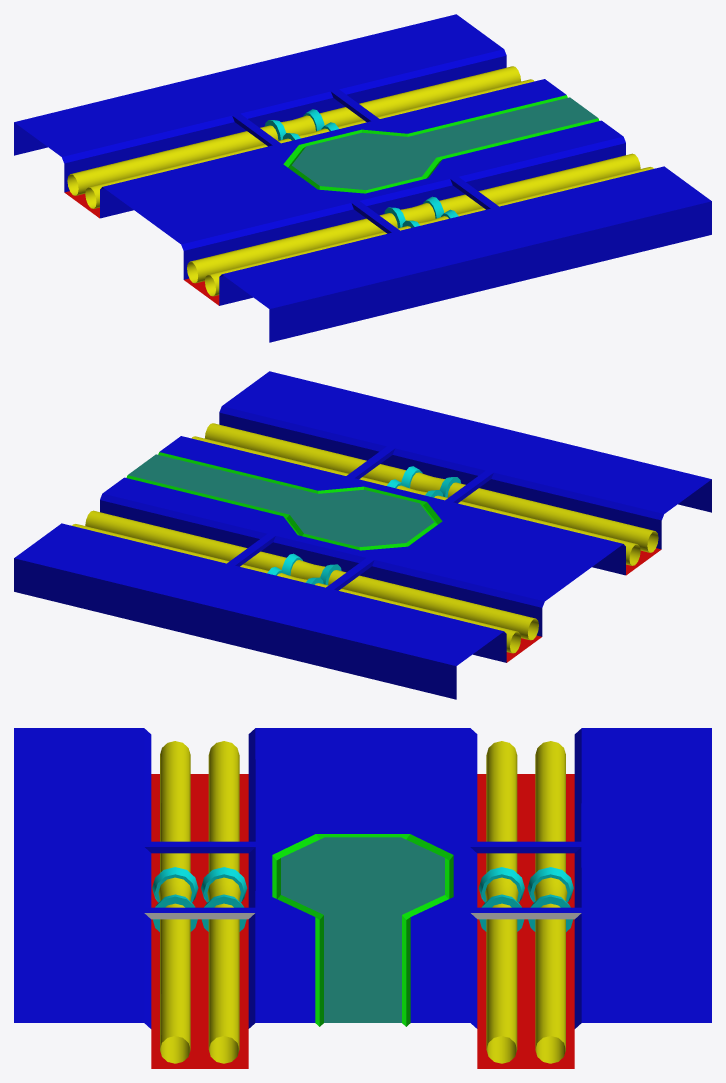
Rendered from DS_SM0026_Scifi_Room_FloorCap_01.fbx.
3 views of the same model, one above another, from view 1: azimuth 30°, elevation 25°; view 2: azimuth 150°, elevation 25°; view 3: azimuth 270°, elevation 25° (orthographic). The views are drawn at different scales.
Parts seen in each view (by area): view 1: DS_SM0026_Scifi_Room_FloorCap_01_LP; view 2: DS_SM0026_Scifi_Room_FloorCap_01_LP; view 3: DS_SM0026_Scifi_Room_FloorCap_01_LP.
Boxes of the visible parts, box(x1,y1,x2,y2) form: DS_SM0026_Scifi_Room_FloorCap_01_LP: box(14, 14, 711, 342); DS_SM0026_Scifi_Room_FloorCap_01_LP: box(14, 371, 711, 699); DS_SM0026_Scifi_Room_FloorCap_01_LP: box(14, 728, 711, 1068).
Bounding box in the file's own units: 400 × 30.21 × 400.
